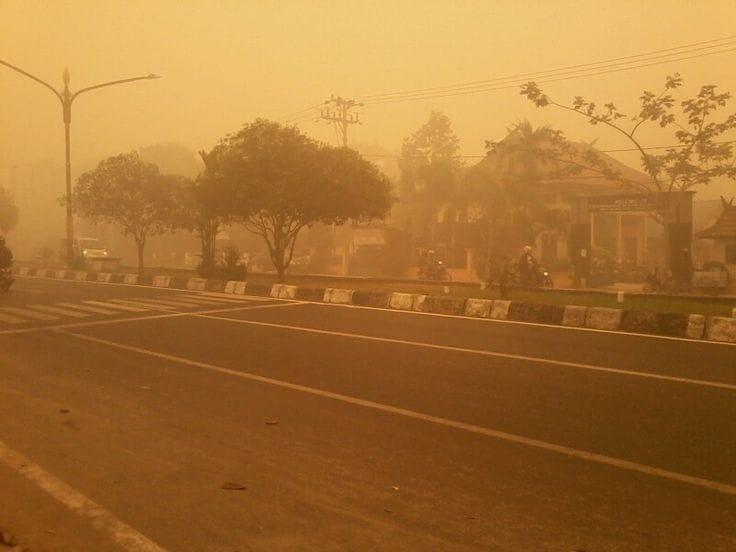Deteksi-Objek-Citra-Berasap: (0, 0, 736, 552)
Gedung: (447, 137, 695, 283), (686, 193, 736, 289)
Kendaraan: (72, 236, 117, 270), (510, 260, 554, 289), (418, 250, 449, 281), (2, 265, 17, 302)
Manusia: (0, 234, 17, 297), (518, 245, 540, 285)
Vegetasi: (515, 72, 736, 276), (180, 117, 394, 276), (72, 151, 186, 272), (394, 109, 470, 255)
